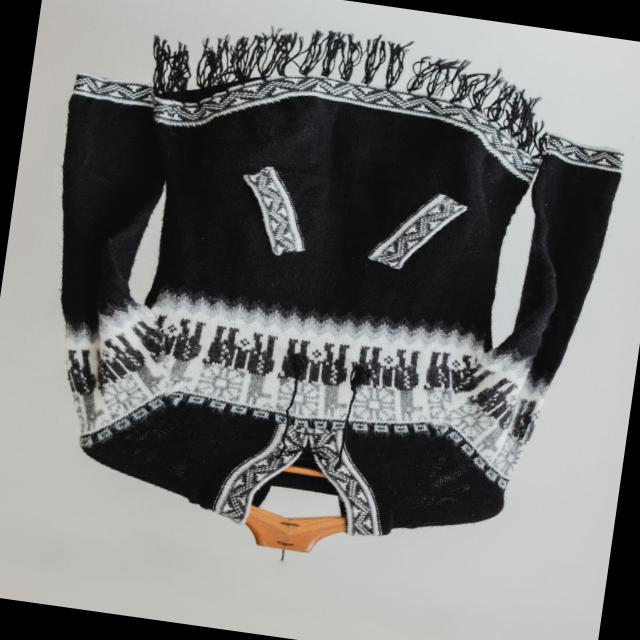Chompa: (10, 0, 637, 591)
